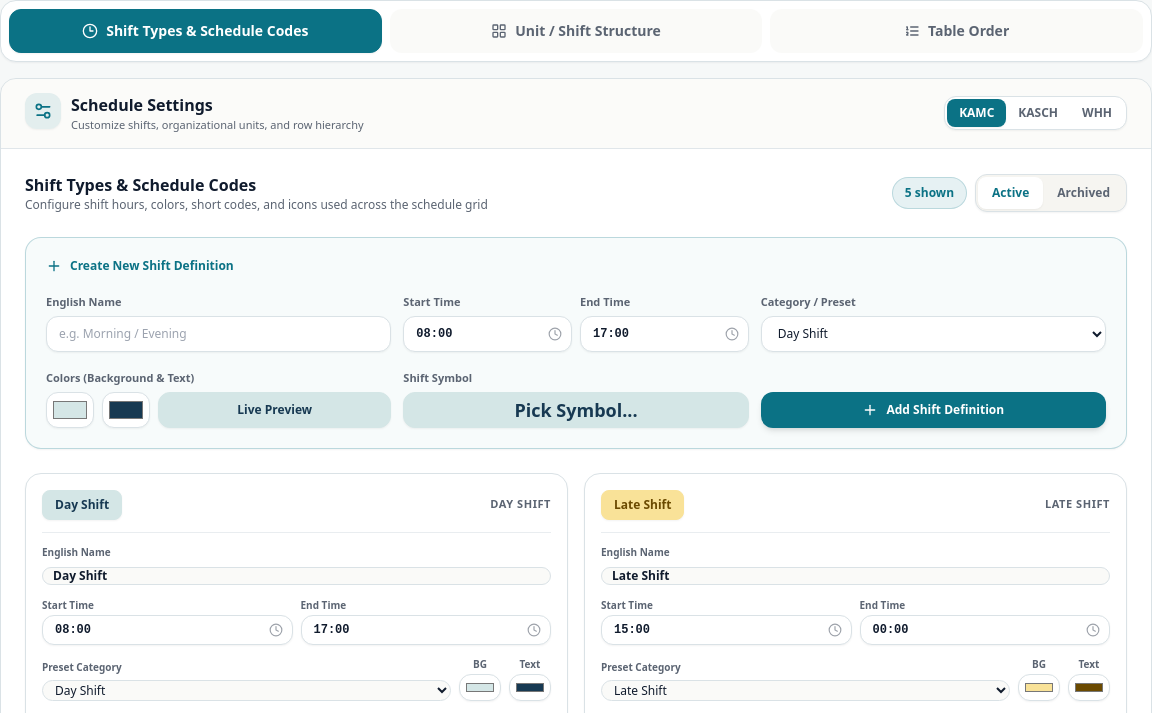
Test: ScheduleSettingsPanel › scrolls and focuses the newly added unit so it becomes visible immediately
Click the tab "Unit / Shift Structure".
click(576, 31)  # box [390, 9, 762, 53]
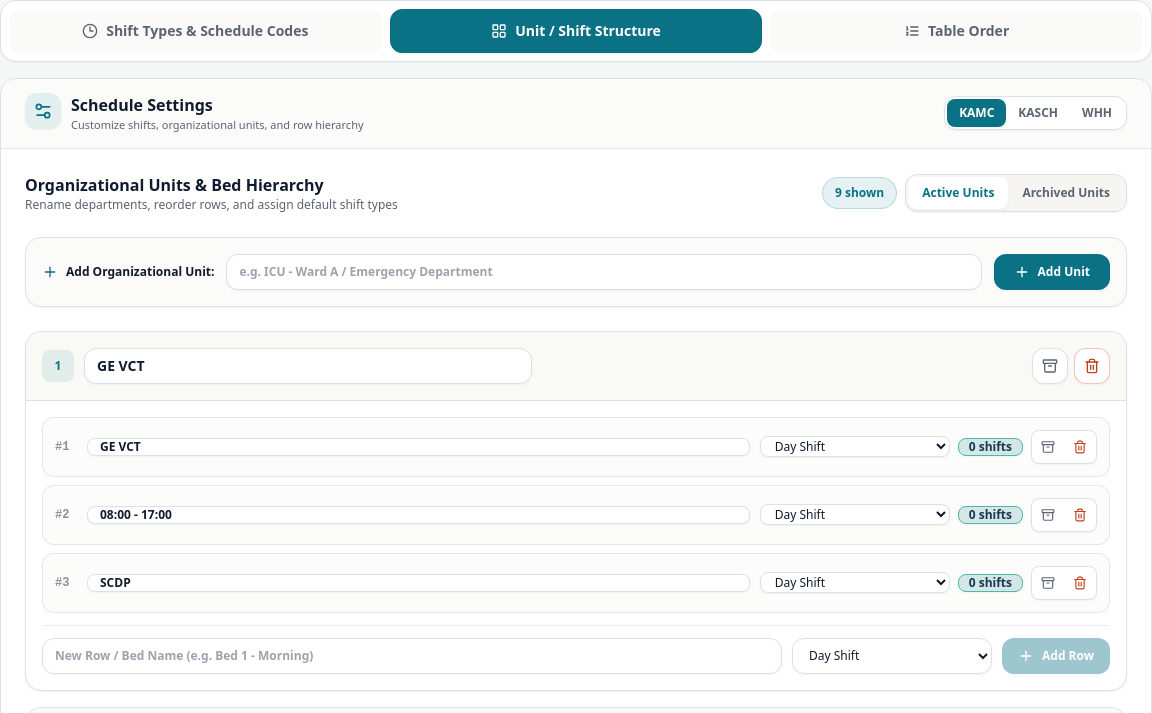
Type "Focused Unit" into the field with placeholder "e.g. ICU - Ward A / Emergency Department".
click(604, 272); type("Focused Unit")  # box [226, 254, 982, 290]
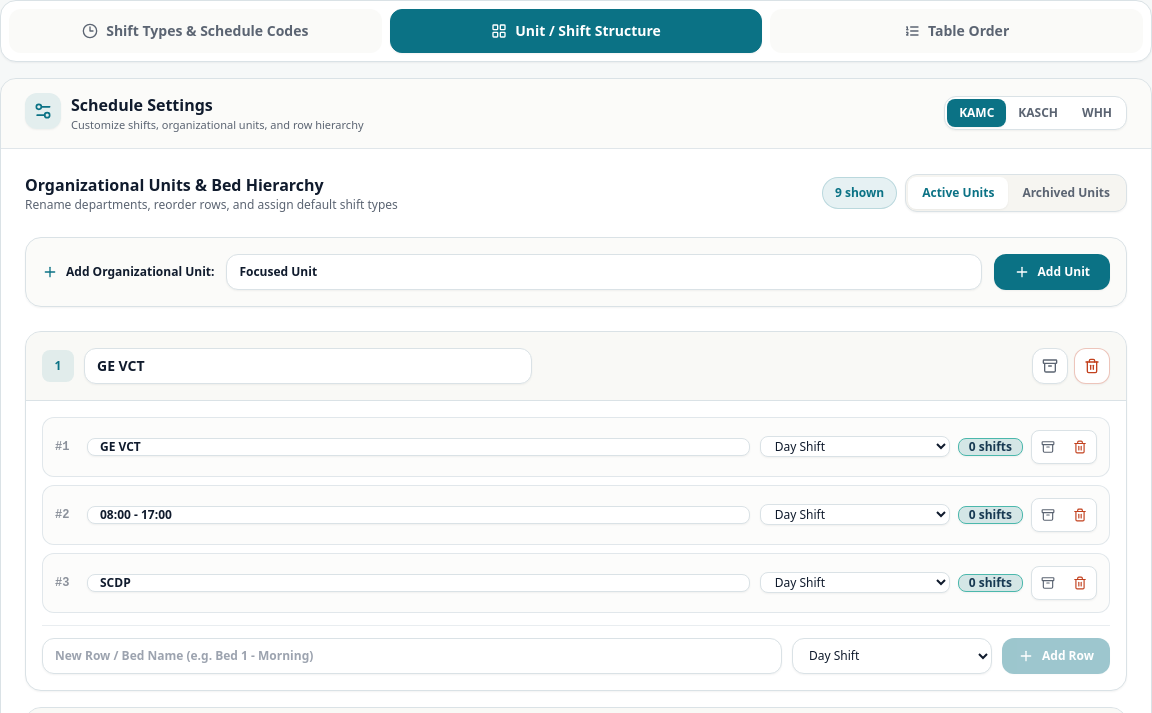
Click the button "Add Unit".
click(1052, 272)  # box [994, 254, 1110, 290]
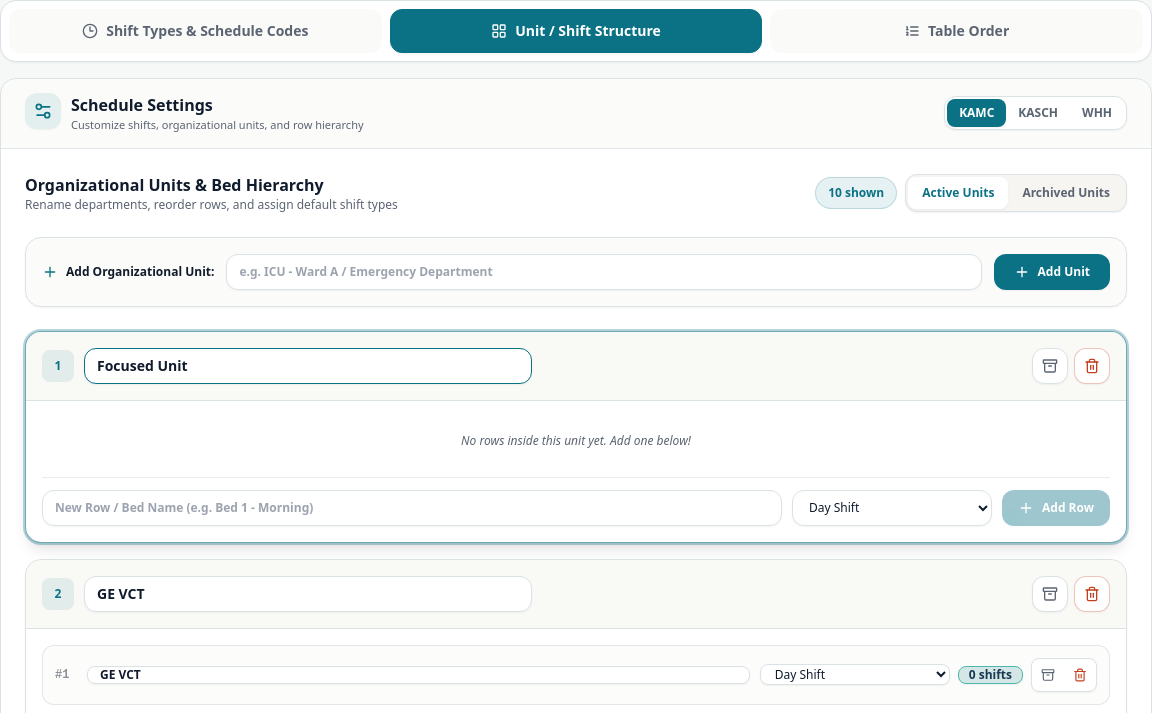
Expected: the text "10 shown" is shown, [815, 176, 897, 208]
Result: the element showing "Focused Unit" is shown at [25, 330, 1127, 542]
